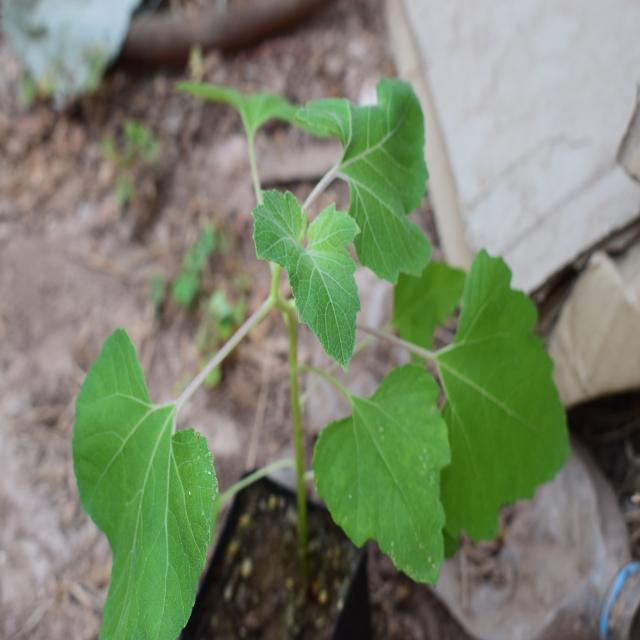cocklebur: (67, 44, 514, 616)
